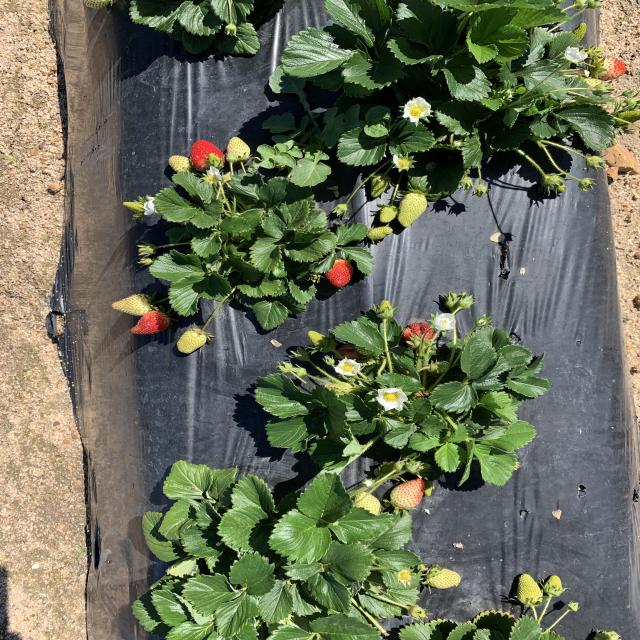unripe: (188, 138, 226, 174), (127, 311, 171, 337), (320, 258, 352, 290)
